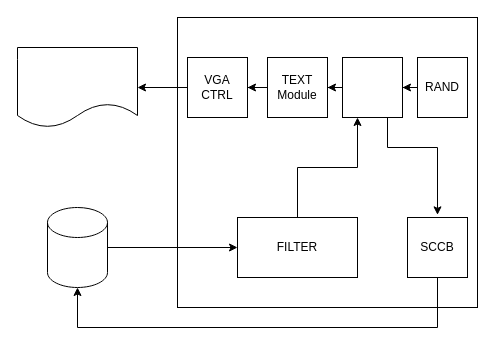
This 495x353 diagram has some shape labels left out. Here are the shapes that lost their labels. From the top down, the centre of each, then its label:
At point (77, 87): "MONITOR".
At point (372, 87): "CORE".
